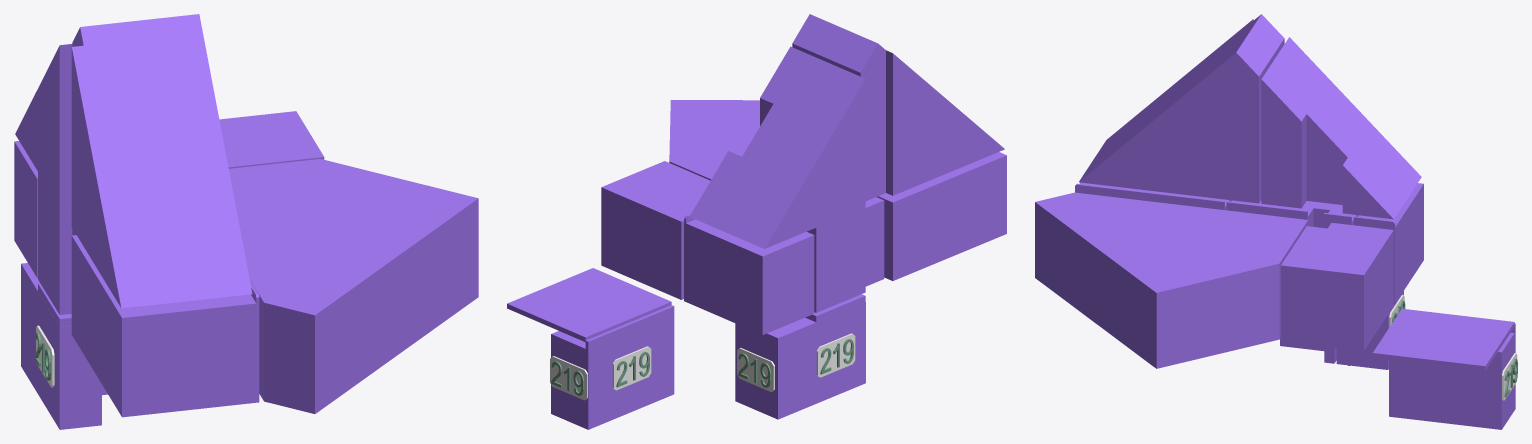
The picture shows the model from 3 angles, left to right: view 1: azimuth 30°, elevation 25°; view 2: azimuth 150°, elevation 25°; view 3: azimuth 270°, elevation 25°; orthographic projection. The views are drawn at different scales.
Visible parts, largest first — view 1: g_5, g_2, g_6, g_12, g_4, g_10, g_11, g_9, g_0, g_3, g_21; view 2: g_2, g_3, g_9, g_6, g_10, g_1, g_4, g_13, g_5, g_0, g_12, g_11 (+5 smaller); view 3: g_5, g_2, g_3, g_10, g_1, g_13, g_9, g_7, g_6, g_4, g_0.
Boxes of the visible parts, x1,y1,x2,y2 form: g_5: [229, 159, 478, 413]; g_2: [71, 14, 252, 308]; g_6: [71, 235, 259, 417]; g_12: [33, 282, 107, 429]; g_4: [38, 44, 72, 207]; g_10: [219, 111, 324, 168]; g_11: [38, 173, 72, 314]; g_9: [14, 141, 37, 277]; g_0: [21, 263, 39, 385]; g_3: [15, 89, 37, 170]; g_21: [36, 325, 54, 387]; g_2: [792, 14, 1004, 200]; g_3: [685, 46, 838, 248]; g_9: [684, 213, 814, 334]; g_6: [877, 152, 1006, 280]; g_10: [601, 161, 710, 299]; g_1: [551, 305, 674, 429]; g_4: [790, 67, 865, 227]; g_13: [507, 268, 671, 342]; g_5: [669, 100, 759, 180]; g_0: [735, 322, 804, 419]; g_12: [794, 294, 865, 408]; g_11: [807, 208, 865, 312]; g_5: [1035, 192, 1308, 368]; g_2: [1079, 14, 1284, 203]; g_3: [1261, 52, 1421, 221]; g_10: [1281, 222, 1393, 350]; g_1: [1389, 323, 1515, 429]; g_13: [1372, 308, 1514, 370]; g_9: [1353, 183, 1423, 304]; g_7: [1226, 200, 1358, 228]; g_6: [1075, 182, 1231, 210]; g_4: [1279, 37, 1353, 119]; g_0: [1336, 291, 1403, 369].
Size of the model in its own units: 9.92 by 10.1 by 13.83.
